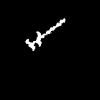double_crochet: (26, 19, 64, 50)
